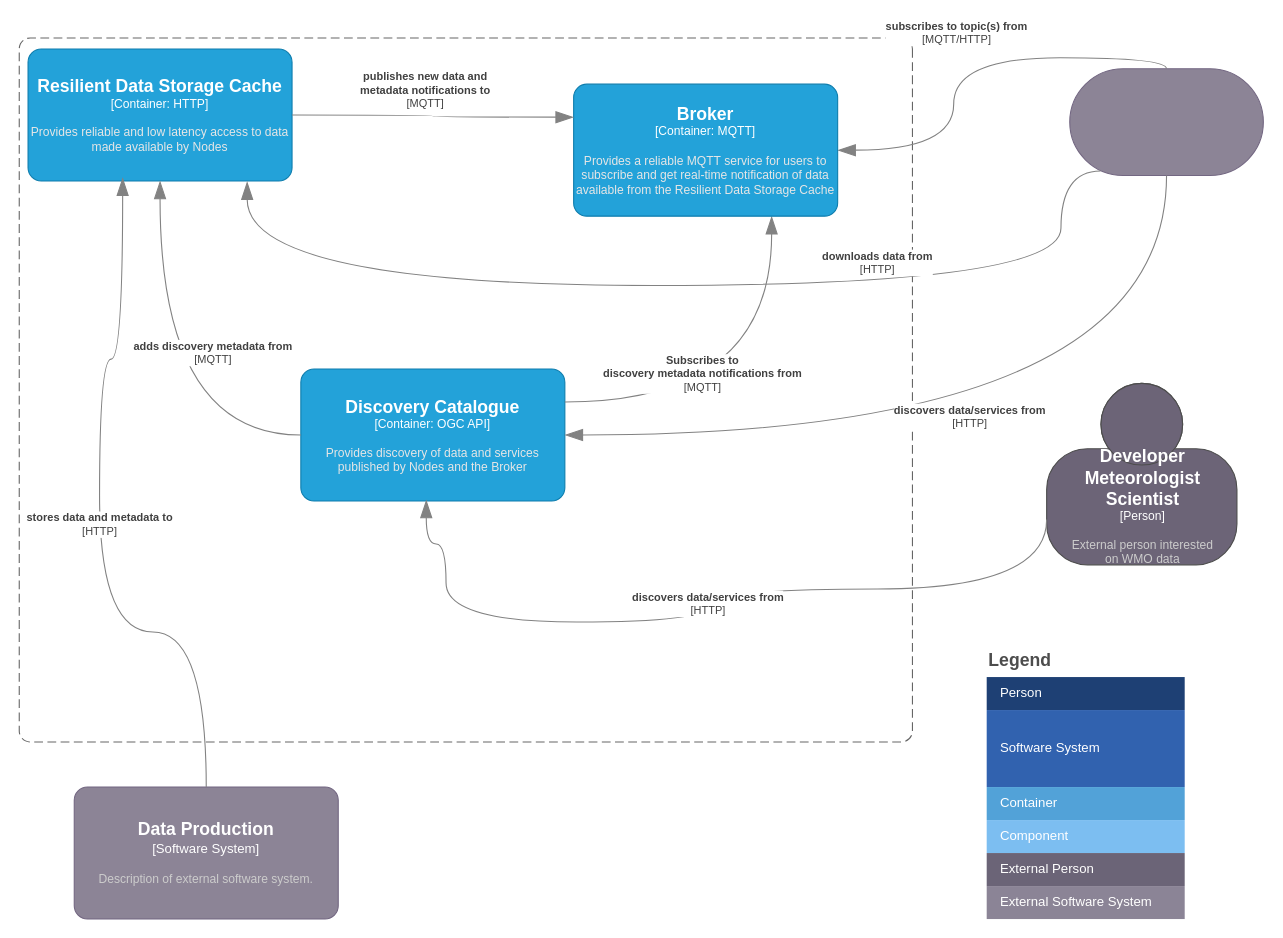
The diagram is 1283 pixels wide and 938 high, and some of its shapes have lost their labels. Each missing label, with the box of its shape:
Data Consumer [Software System] User of data or products: (1069, 68, 1263, 175)
MET5 Services [Software System]: (18, 37, 912, 742)
